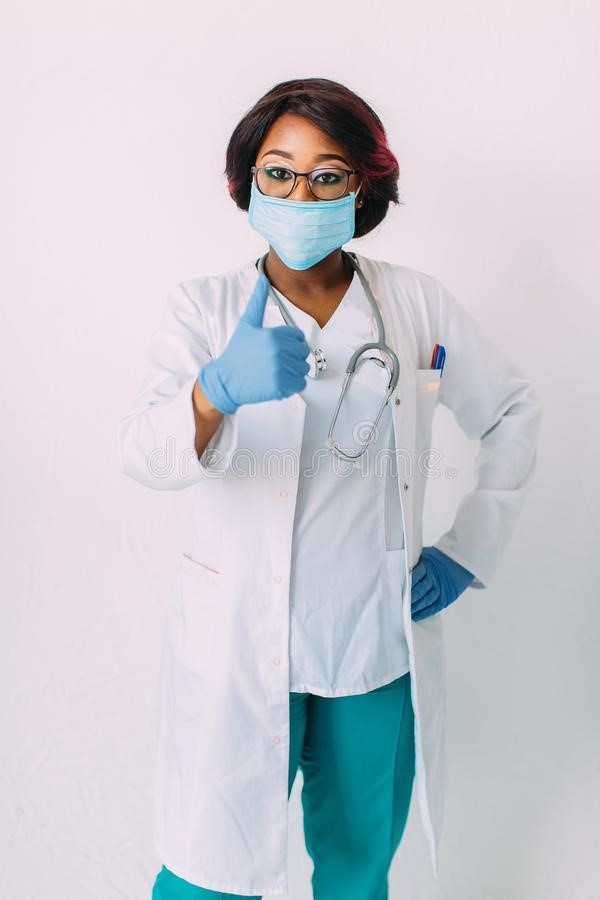face_with_mask: (221, 75, 403, 272)
